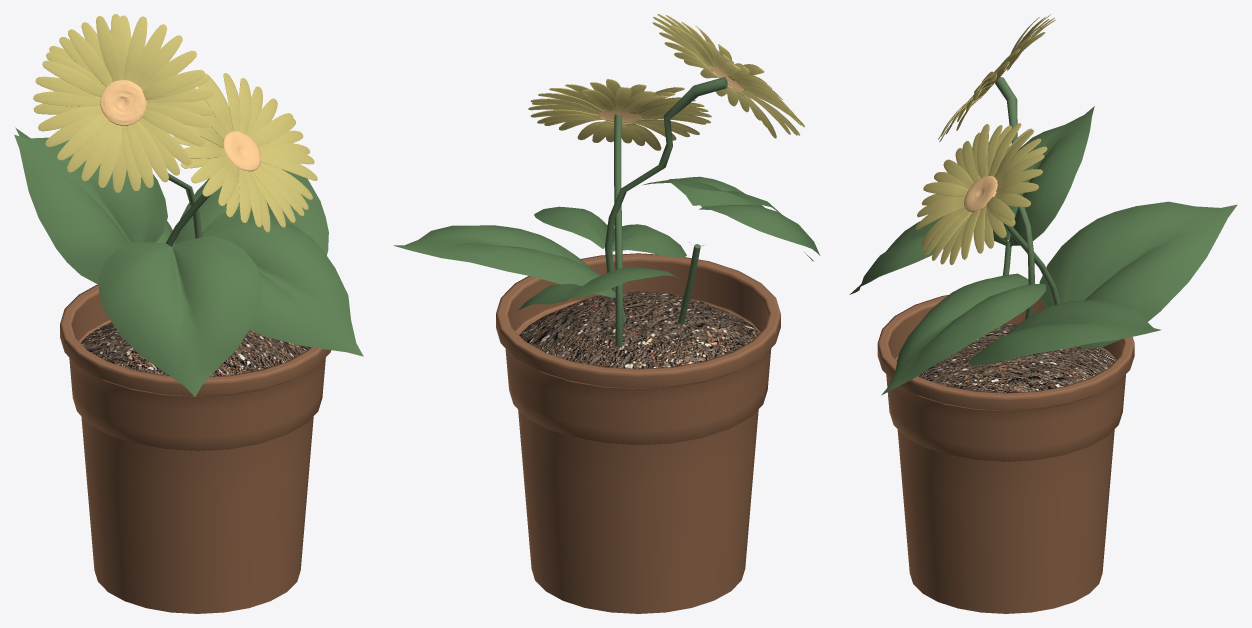
Rendered from flowerpot_combined2.glb.
3 views of the same model, side by side, from view 1: azimuth 30°, elevation 25°; view 2: azimuth 150°, elevation 25°; view 3: azimuth 270°, elevation 25° (orthographic). The views are drawn at different scales.
Parts seen in each view (by area): view 1: RS_Flower_POT:pot_plant_renderman1:plant_pot1; view 2: RS_Flower_POT:pot_plant_renderman1:plant_pot1; view 3: RS_Flower_POT:pot_plant_renderman1:plant_pot1.
Part boxes in pixels (x1,y1,x2,y2): RS_Flower_POT:pot_plant_renderman1:plant_pot1: [14, 14, 363, 613]; RS_Flower_POT:pot_plant_renderman1:plant_pot1: [393, 14, 820, 613]; RS_Flower_POT:pot_plant_renderman1:plant_pot1: [849, 14, 1237, 613].
Bounding box in the file's own units: 1.53 × 2.62 × 1.77.
Materials: 6 (1 with a texture image).
